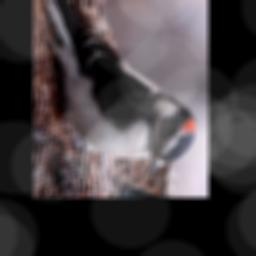Woodpecker: (42, 0, 199, 182)
